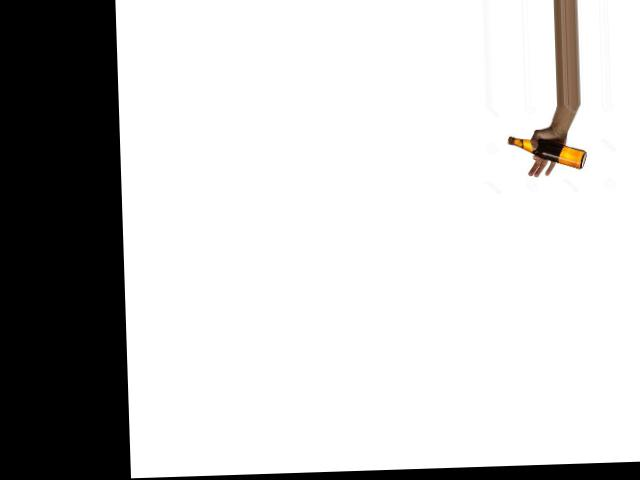beer: (509, 134, 586, 169)
